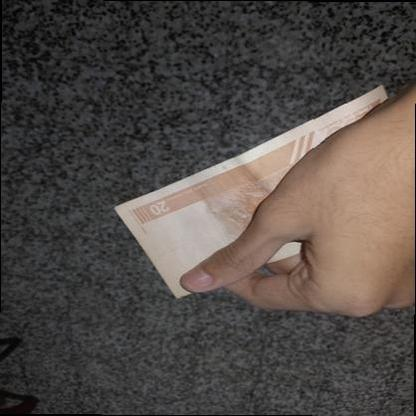twenty-back-vef: (113, 84, 388, 300)
